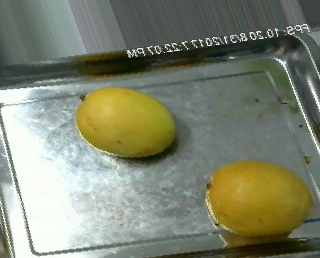Mango: (208, 158, 312, 235), (76, 86, 180, 157)
